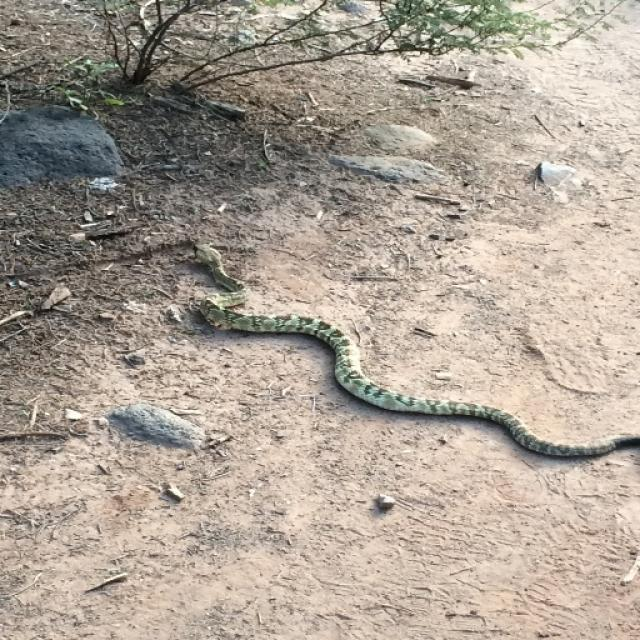snake: (178, 218, 640, 491)
